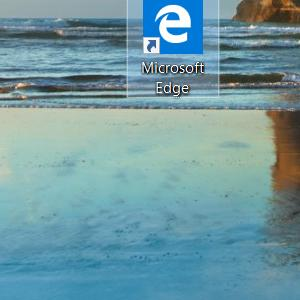edge: (143, 1, 202, 54)
